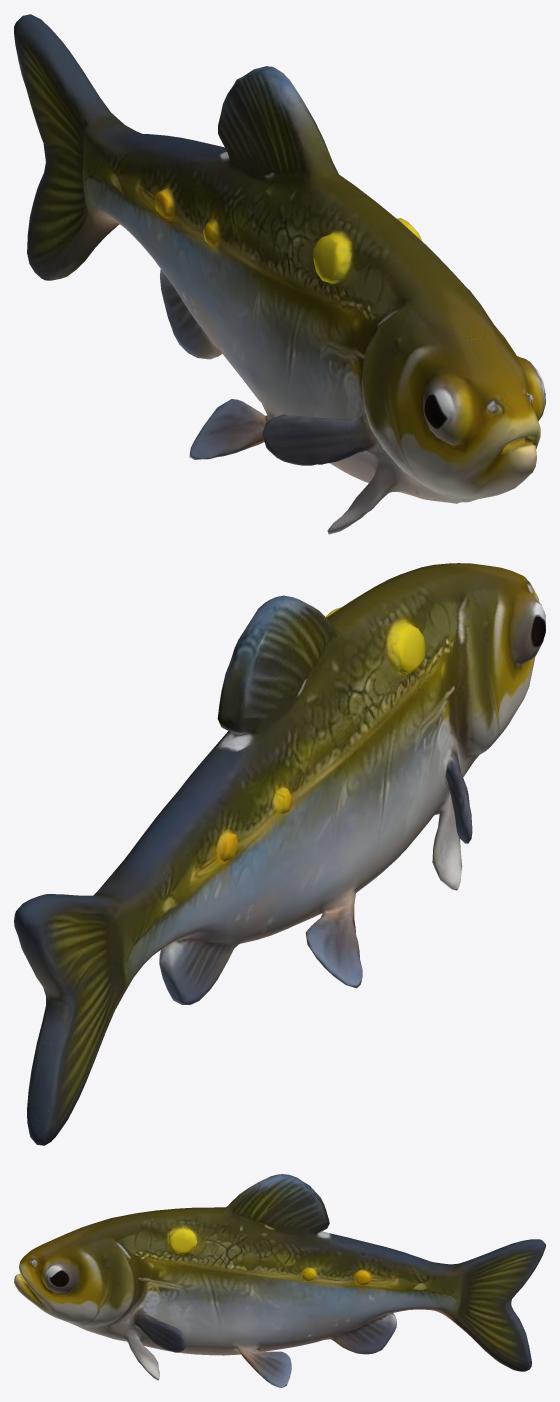
File: eunuh.glb
3 views of the same model, one above another, from view 1: azimuth 30°, elevation 25°; view 2: azimuth 150°, elevation 25°; view 3: azimuth 270°, elevation 25° (orthographic). The views are drawn at different scales.
Parts seen in each view (by area): view 1: tripo_node_d4459763-1cc8-42f5-8578-8ddbe4abca23; view 2: tripo_node_d4459763-1cc8-42f5-8578-8ddbe4abca23; view 3: tripo_node_d4459763-1cc8-42f5-8578-8ddbe4abca23.
Boxes of the visible parts, x1=… form: tripo_node_d4459763-1cc8-42f5-8578-8ddbe4abca23: x1=14, y1=14, x2=545, y2=534; tripo_node_d4459763-1cc8-42f5-8578-8ddbe4abca23: x1=14, y1=563, x2=545, y2=1145; tripo_node_d4459763-1cc8-42f5-8578-8ddbe4abca23: x1=14, y1=1174, x2=545, y2=1387.
Size of the model in its own units: 0.2376 by 0.4082 by 1.
1 material, 1 textured.
